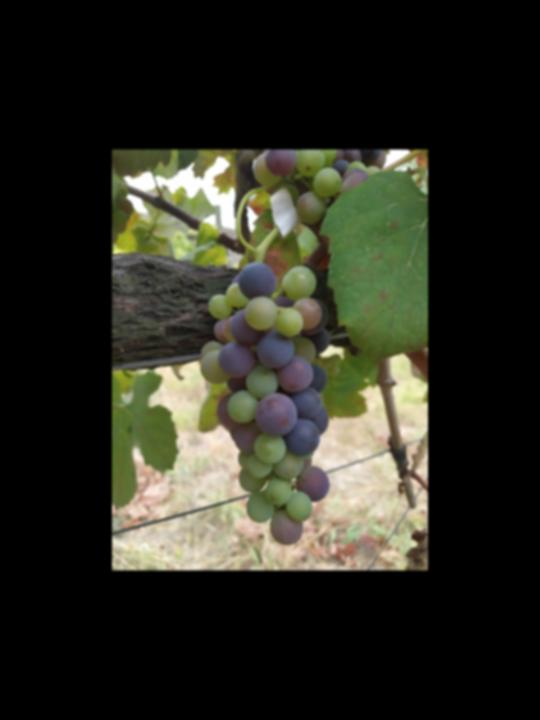grape: (198, 260, 333, 548)
